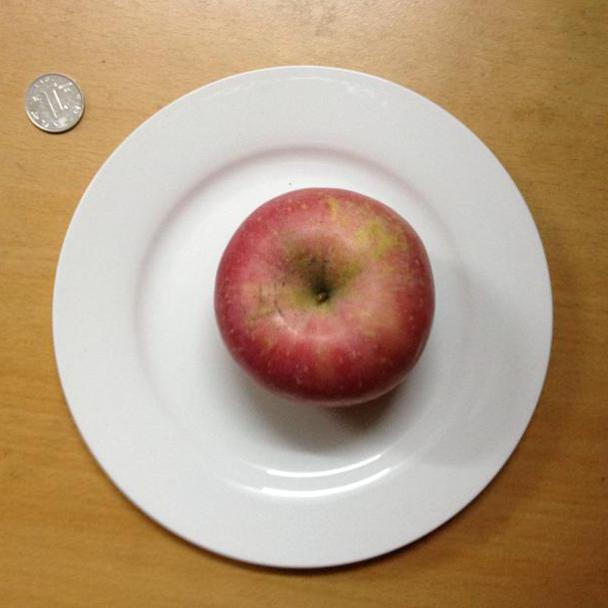apple: (213, 188, 435, 410)
